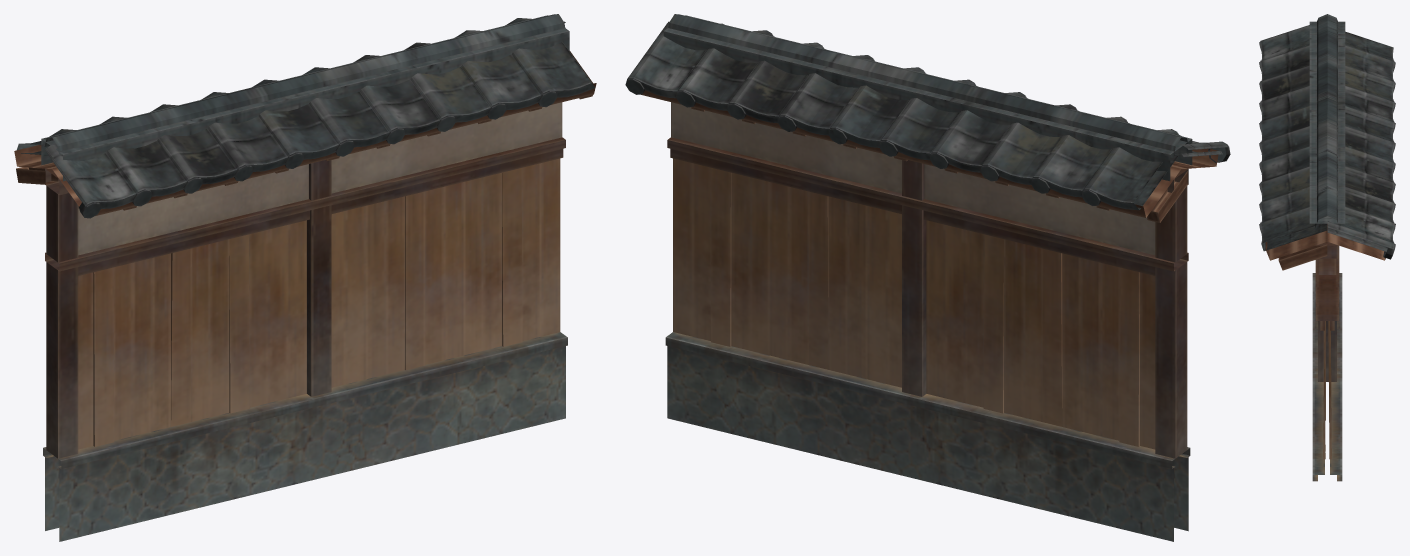
The model's file is Wall_08a.fbx.
3 renders of one model, left to right at view 1: azimuth 30°, elevation 25°; view 2: azimuth 150°, elevation 25°; view 3: azimuth 270°, elevation 25°, orthographic. The views are drawn at different scales.
Parts seen in each view (by area): view 1: SM_cmn_build_Wall_08a.mo; view 2: SM_cmn_build_Wall_08a.mo; view 3: SM_cmn_build_Wall_08a.mo.
Part boxes in pixels (left/top/right/bottom): SM_cmn_build_Wall_08a.mo: left=14, top=14, right=596, bottom=541; SM_cmn_build_Wall_08a.mo: left=625, top=14, right=1230, bottom=541; SM_cmn_build_Wall_08a.mo: left=1259, top=14, right=1395, bottom=481.
Size of the model in its own units: 415 by 301 by 115.
2 materials, 2 textured.
